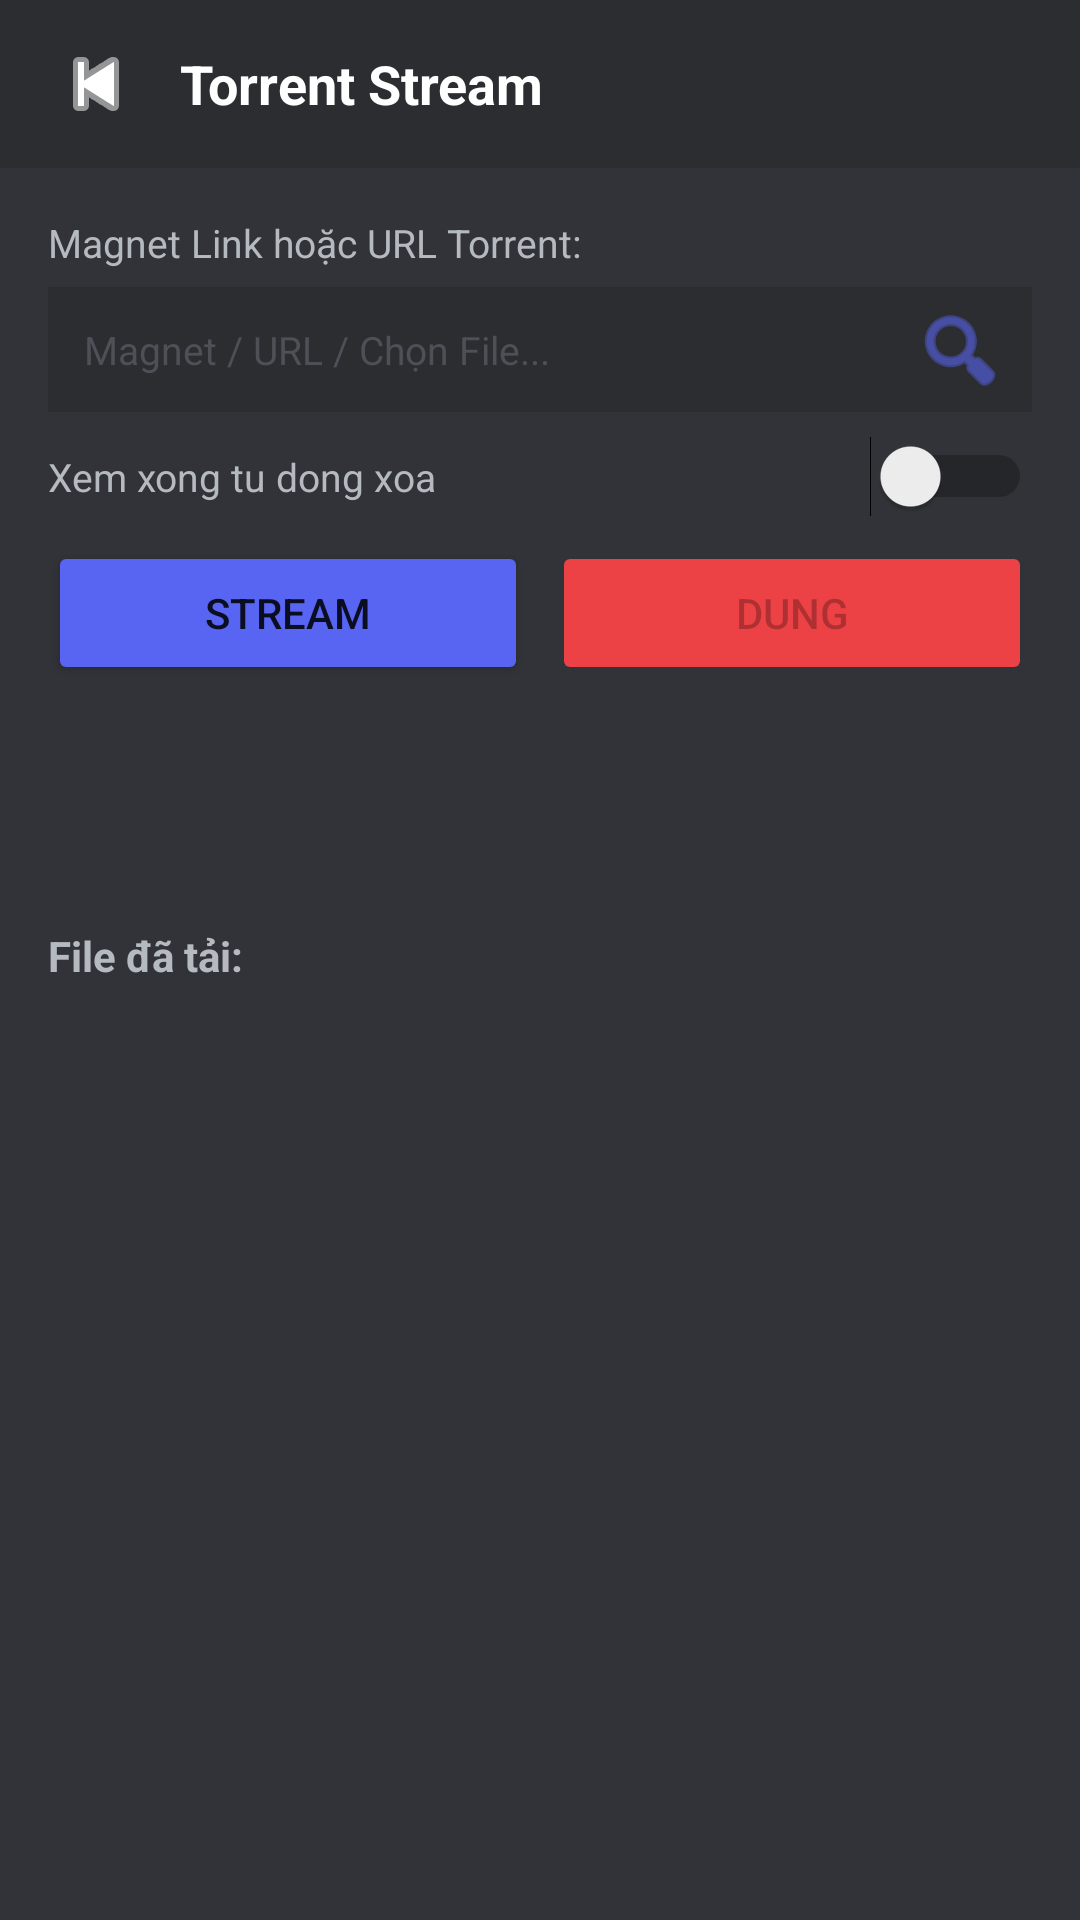

Icon click points for this 1080 x 1920 phone screenshot, format point (x, y):
previous: point (96, 84)
search: point (960, 350)
